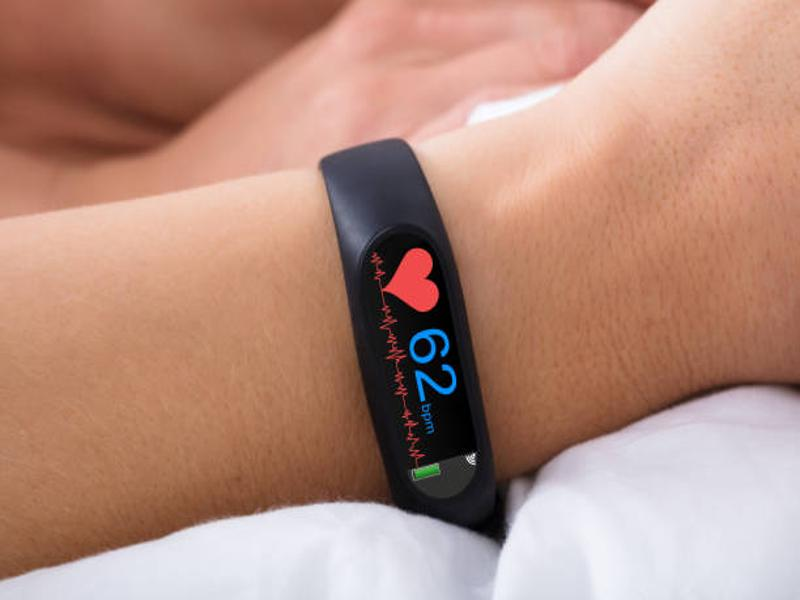watch: (314, 137, 496, 516)
